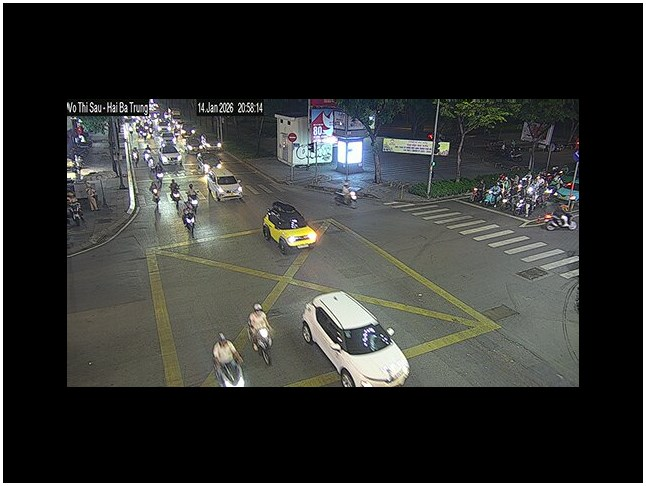car: (301, 289, 411, 387), (262, 200, 326, 254), (205, 172, 244, 202)
